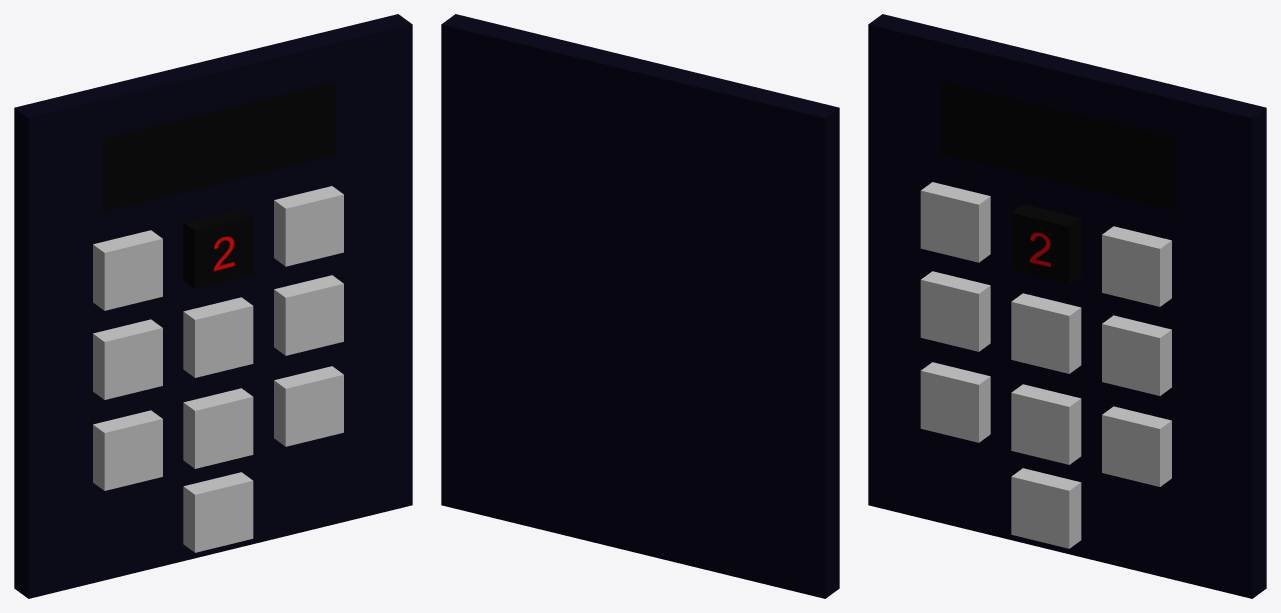
File: password.fbx
The picture shows the model from 3 angles, left to right: view 1: azimuth 30°, elevation 25°; view 2: azimuth 150°, elevation 25°; view 3: azimuth 330°, elevation 25°; orthographic projection.
Parts seen in each view (by area): view 1: Куб.009, Плоскость, Куб.004, Куб.001, Куб.007, Куб.010, Куб, Куб.003, Куб.006, Куб.005, Куб.008, Куб.002; view 2: Куб.009; view 3: Куб.009, Плоскость, Куб.001, Куб.005, Куб.004, Куб, Куб.008, Куб.007, Куб.010, Куб.003, Куб.006, Куб.002.
Boxes of the visible parts, <box> form: Куб.009: <box>14,14,412,598</box>; Плоскость: <box>102,81,336,211</box>; Куб.004: <box>183,297,253,377</box>; Куб.001: <box>183,208,253,288</box>; Куб.007: <box>183,388,253,468</box>; Куб.010: <box>183,472,253,552</box>; Куб: <box>93,230,162,310</box>; Куб.003: <box>274,275,343,355</box>; Куб.006: <box>274,366,343,446</box>; Куб.005: <box>93,319,162,399</box>; Куб.008: <box>93,410,162,490</box>; Куб.002: <box>274,186,343,266</box>; Куб.009: <box>441,14,839,598</box>; Куб.009: <box>868,14,1266,598</box>; Плоскость: <box>939,80,1173,210</box>; Куб.001: <box>1011,204,1081,284</box>; Куб.005: <box>920,271,990,351</box>; Куб.004: <box>1011,293,1081,373</box>; Куб: <box>920,182,990,262</box>; Куб.008: <box>920,362,990,442</box>; Куб.007: <box>1011,384,1081,464</box>; Куб.010: <box>1011,468,1081,548</box>; Куб.003: <box>1102,315,1171,395</box>; Куб.006: <box>1102,406,1171,486</box>; Куб.002: <box>1102,226,1171,306</box>.
Size of the model in its own units: 206 by 246 by 24.23.
